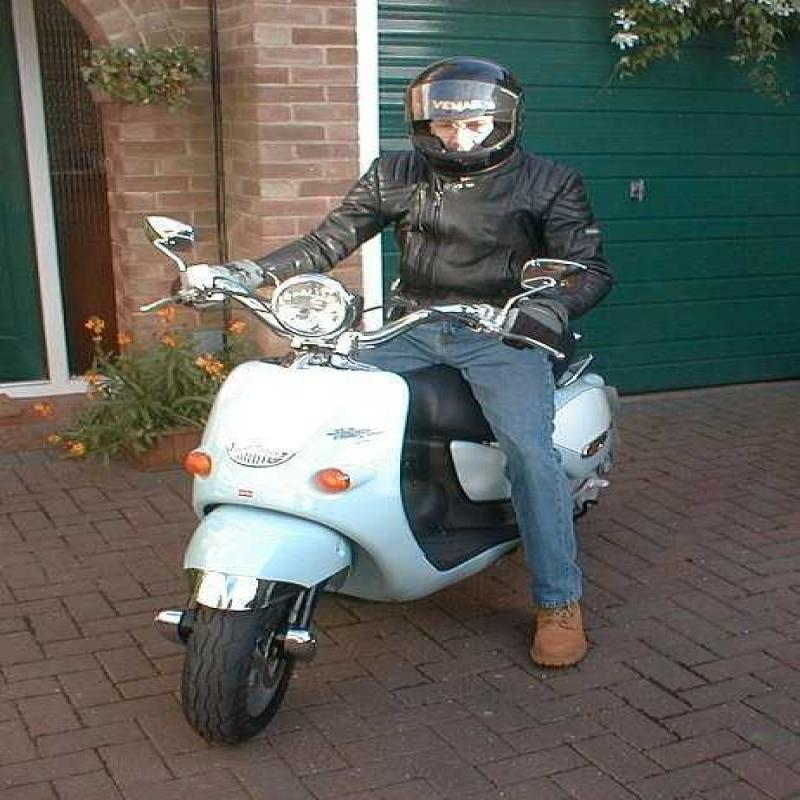bike: (120, 239, 616, 715)
